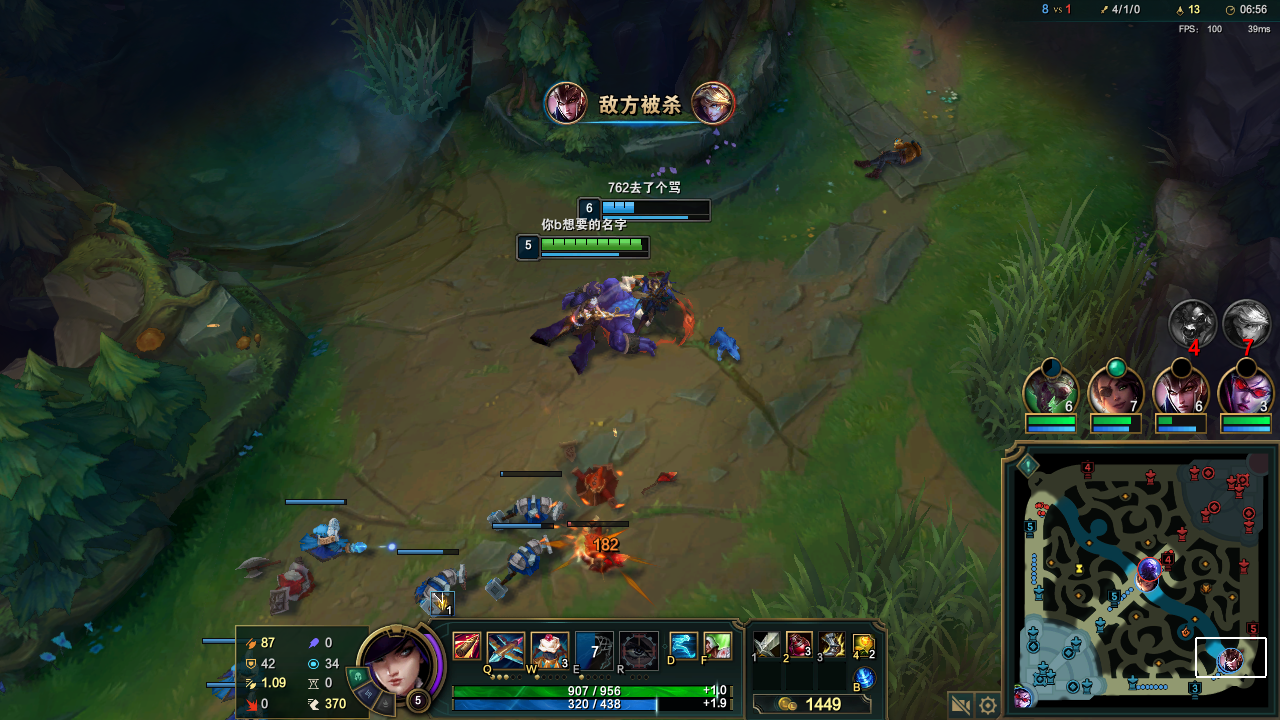DFXB: (578, 534, 626, 572)
WFXB: (302, 519, 357, 561), (418, 564, 462, 595), (509, 544, 542, 576), (512, 501, 559, 521), (219, 672, 234, 698)
